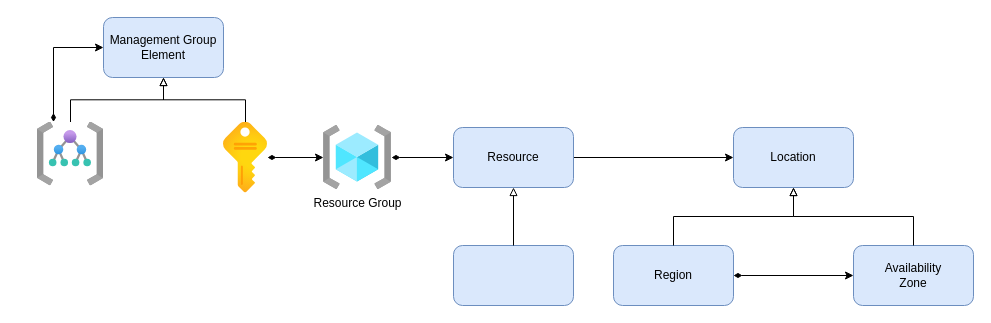
This 991x323 diagram has some shape labels left out. The shapes that lost their labels are listed below. From the top down, each one's centre as x and y in pixels, then its label:
At (x=70, y=154): "Management Group".
At (x=245, y=157): "Subscrption".
At (x=513, y=275): "Generic Resource".
